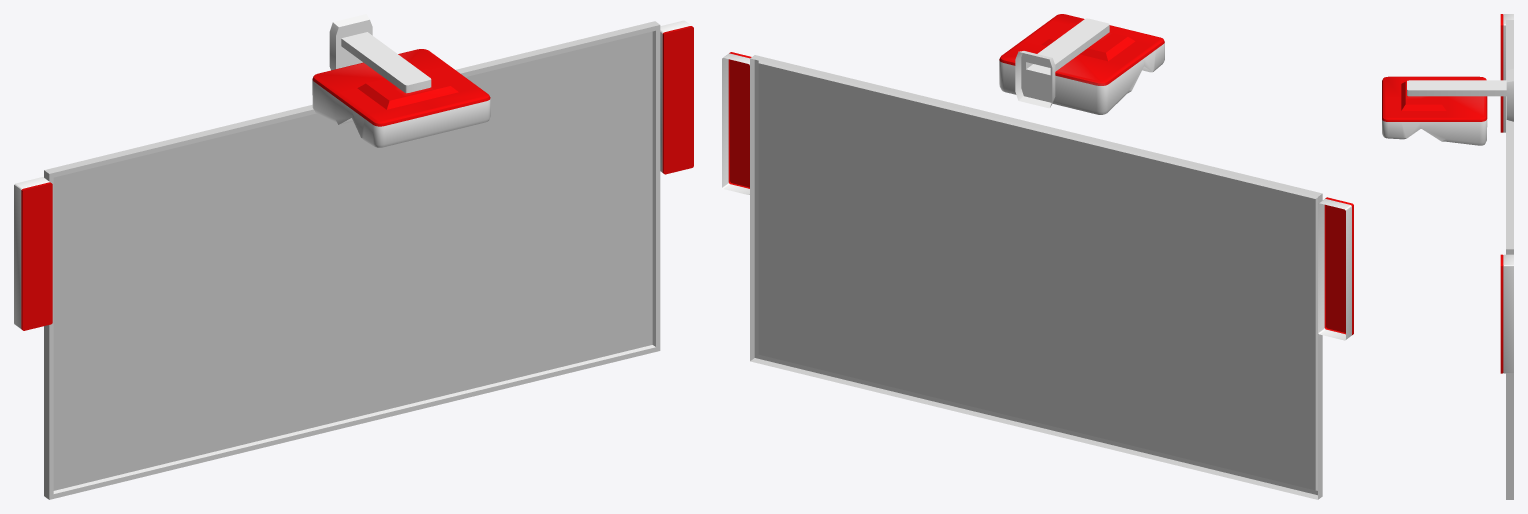
The model's file is video_projector.fbx.
The picture shows the model from 3 angles, left to right: view 1: azimuth 30°, elevation 25°; view 2: azimuth 150°, elevation 25°; view 3: azimuth 270°, elevation 25°; orthographic projection. The views are drawn at different scales.
Visible parts, largest first — view 1: Board_white, Board_Frame, Videoprojector, Speaker; view 2: Board_white, Board_Frame, Videoprojector, Speaker; view 3: Videoprojector, Board_Frame, Speaker.
Part boxes in pixels (x1=…): Board_white: x1=53, y1=31, x2=652, y2=490; Board_Frame: x1=44, y1=21, x2=660, y2=499; Videoprojector: x1=312, y1=14, x2=490, y2=147; Speaker: x1=14, y1=20, x2=693, y2=330; Board_white: x1=758, y1=63, x2=1315, y2=490; Board_Frame: x1=750, y1=55, x2=1322, y2=499; Videoprojector: x1=999, y1=14, x2=1164, y2=114; Speaker: x1=722, y1=52, x2=1353, y2=340; Videoprojector: x1=1382, y1=68, x2=1513, y2=145; Board_Frame: x1=1506, y1=20, x2=1513, y2=499; Speaker: x1=1500, y1=14, x2=1513, y2=373.
Bounding box in the file's own units: 224 × 129 × 49.58.
